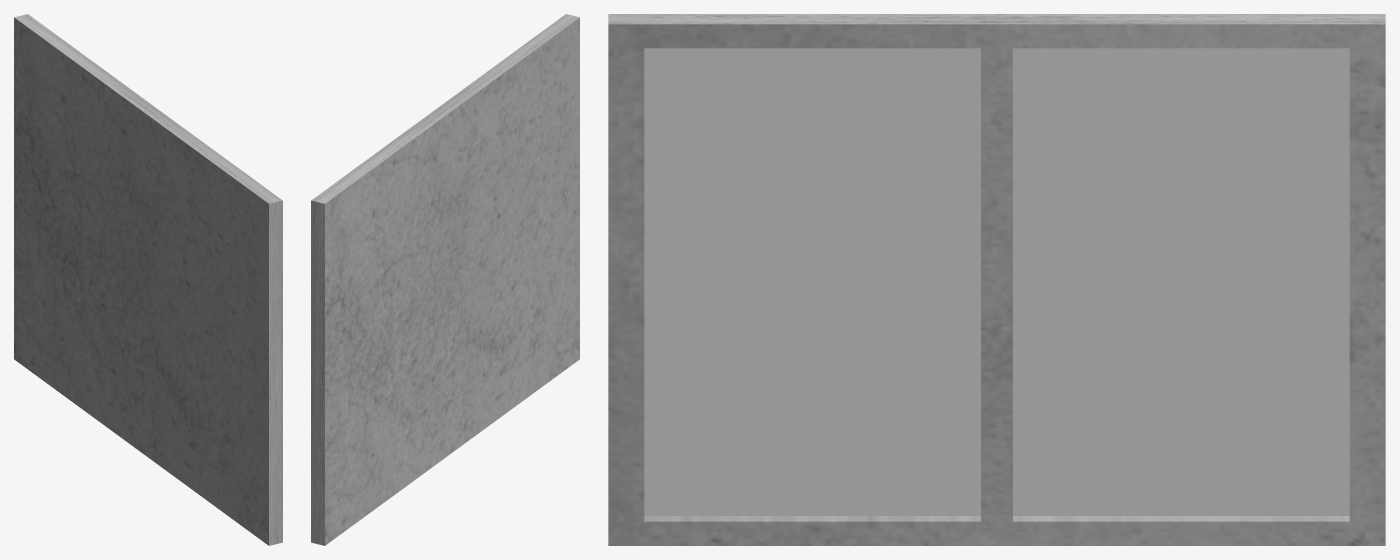
File: WINDOW_03.fbx
3 views of the same model, side by side, from view 1: azimuth 30°, elevation 25°; view 2: azimuth 150°, elevation 25°; view 3: azimuth 270°, elevation 25° (orthographic). The views are drawn at different scales.
Parts seen in each view (by area): view 1: WINDOW_03; view 2: WINDOW_03; view 3: WINDOW_03.
Boxes of the visible parts, box(x1,y1,x2,y2) form: WINDOW_03: box(14, 14, 282, 545); WINDOW_03: box(311, 14, 579, 545); WINDOW_03: box(608, 14, 1385, 545).
Bounding box in the file's own units: 5.59 × 132 × 179.
